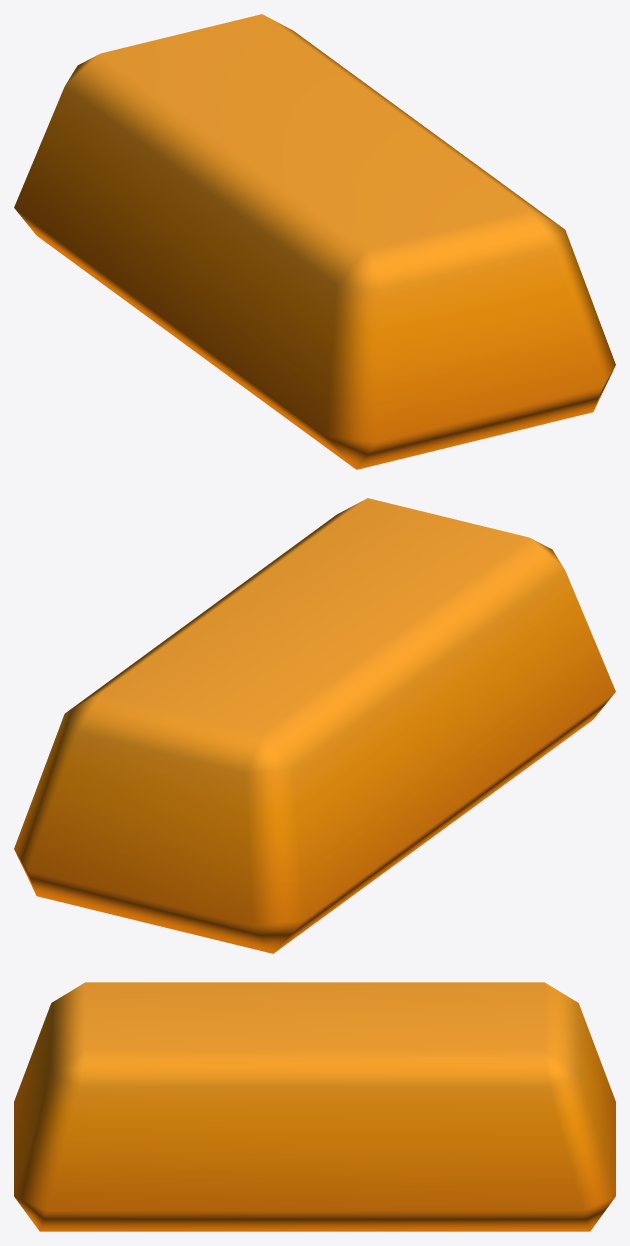
File: casino-assets-glb-gold-ingot-01.glb
3 renders of one model, top to bottom at view 1: azimuth 30°, elevation 25°; view 2: azimuth 150°, elevation 25°; view 3: azimuth 270°, elevation 25°, orthographic. The views are drawn at different scales.
Parts seen in each view (by area): view 1: Gold_Ingot_01; view 2: Gold_Ingot_01; view 3: Gold_Ingot_01.
Part boxes in pixels (x1,y1,x2,y2): Gold_Ingot_01: (14, 14, 615, 469); Gold_Ingot_01: (14, 498, 615, 953); Gold_Ingot_01: (14, 982, 615, 1231).
Size of the model in its own units: 0.1783 by 0.1129 by 0.372.
1 material, 1 textured.
